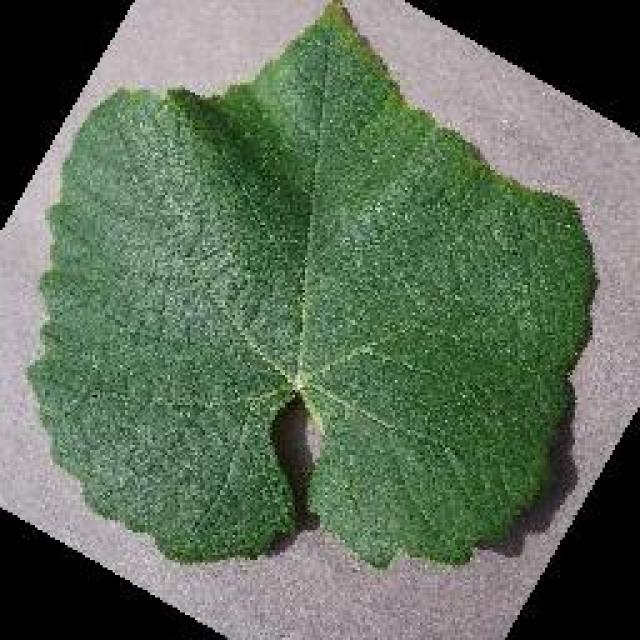Grape___healthy: (17, 0, 601, 571)
